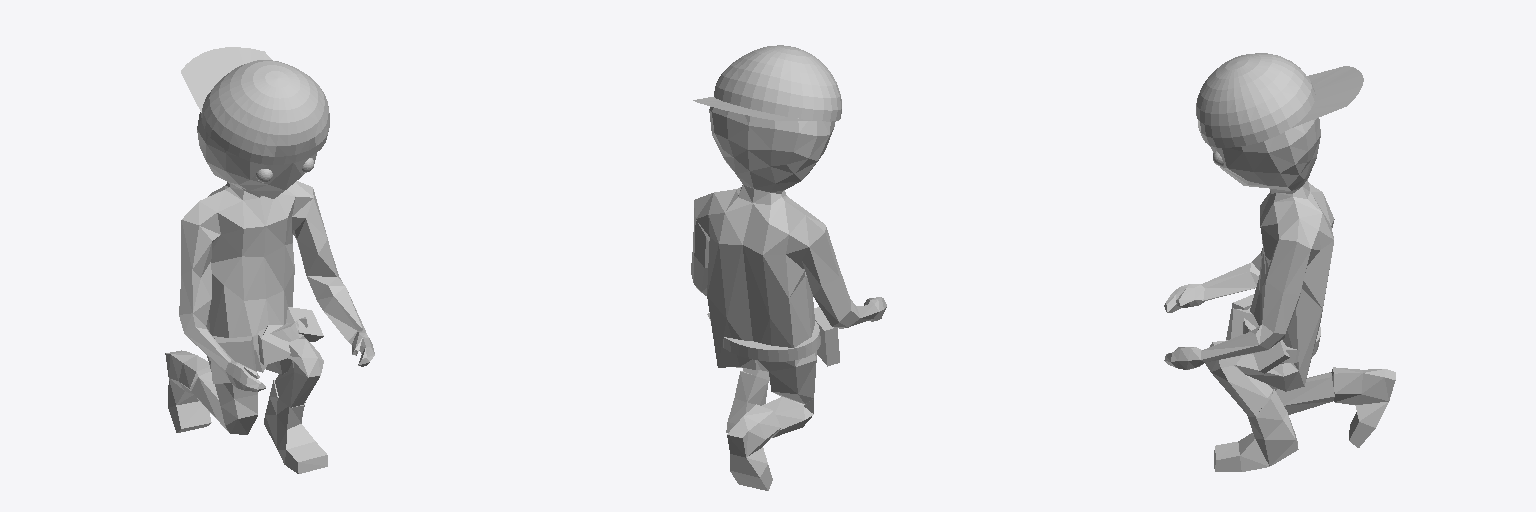
The model's file is Main_Character_TireRepair_18.obj.
3 renders of one model, left to right at view 1: azimuth 30°, elevation 25°; view 2: azimuth 150°, elevation 25°; view 3: azimuth 270°, elevation 25°, orthographic.
Visible parts, largest first — view 1: Main_Character_Test.003_Main_Character_Test.004; view 2: Main_Character_Test.003_Main_Character_Test.004; view 3: Main_Character_Test.003_Main_Character_Test.004.
Part boxes in pixels (x1,y1,x2,y2): Main_Character_Test.003_Main_Character_Test.004: (165, 47, 374, 473); Main_Character_Test.003_Main_Character_Test.004: (691, 45, 886, 490); Main_Character_Test.003_Main_Character_Test.004: (1164, 53, 1395, 471).
Size of the model in its own units: 1.44 by 3.29 by 1.75.